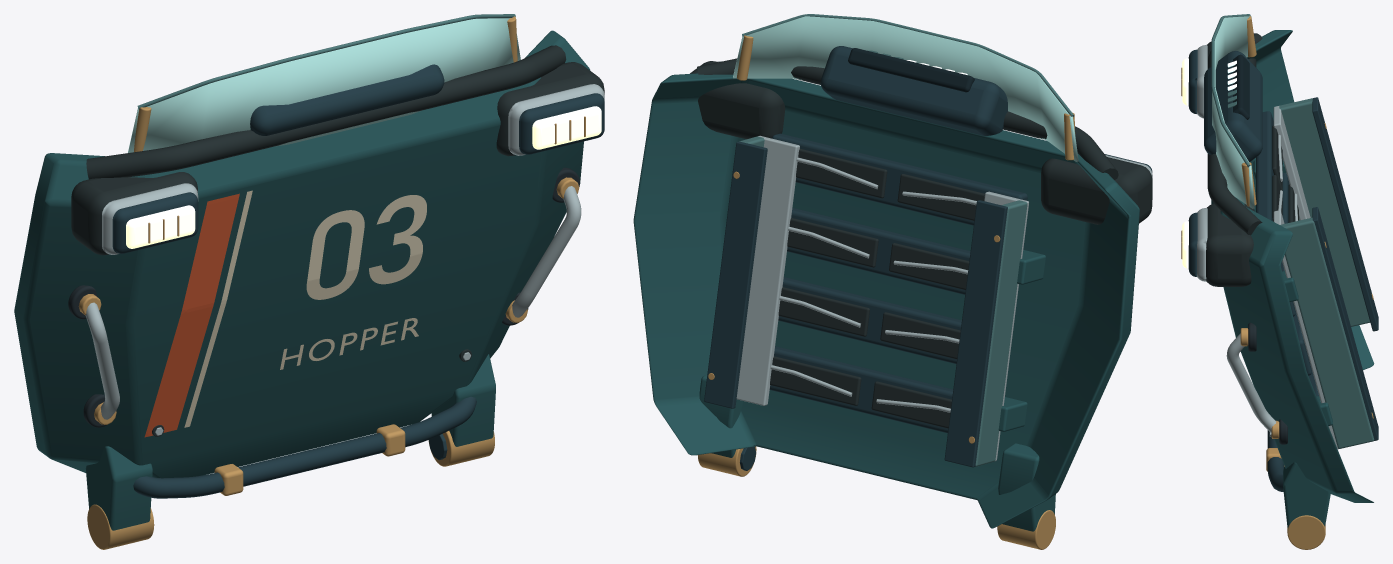
The model's file is SM_Mk2_Hatch_Pivot.fbx.
3 views of the same model, side by side, from view 1: azimuth 30°, elevation 25°; view 2: azimuth 150°, elevation 25°; view 3: azimuth 270°, elevation 25° (orthographic). The views are drawn at different scales.
Parts seen in each view (by area): view 1: SM_Mk2_Hatch_Pivot; view 2: SM_Mk2_Hatch_Pivot; view 3: SM_Mk2_Hatch_Pivot.
Boxes of the visible parts, left/top/right/bottom form: SM_Mk2_Hatch_Pivot: left=14, top=14, right=604, bottom=549; SM_Mk2_Hatch_Pivot: left=633, top=14, right=1152, bottom=549; SM_Mk2_Hatch_Pivot: left=1181, top=14, right=1378, bottom=549.
Bounding box in the file's own units: 68.62 × 25.67 × 58.99.
